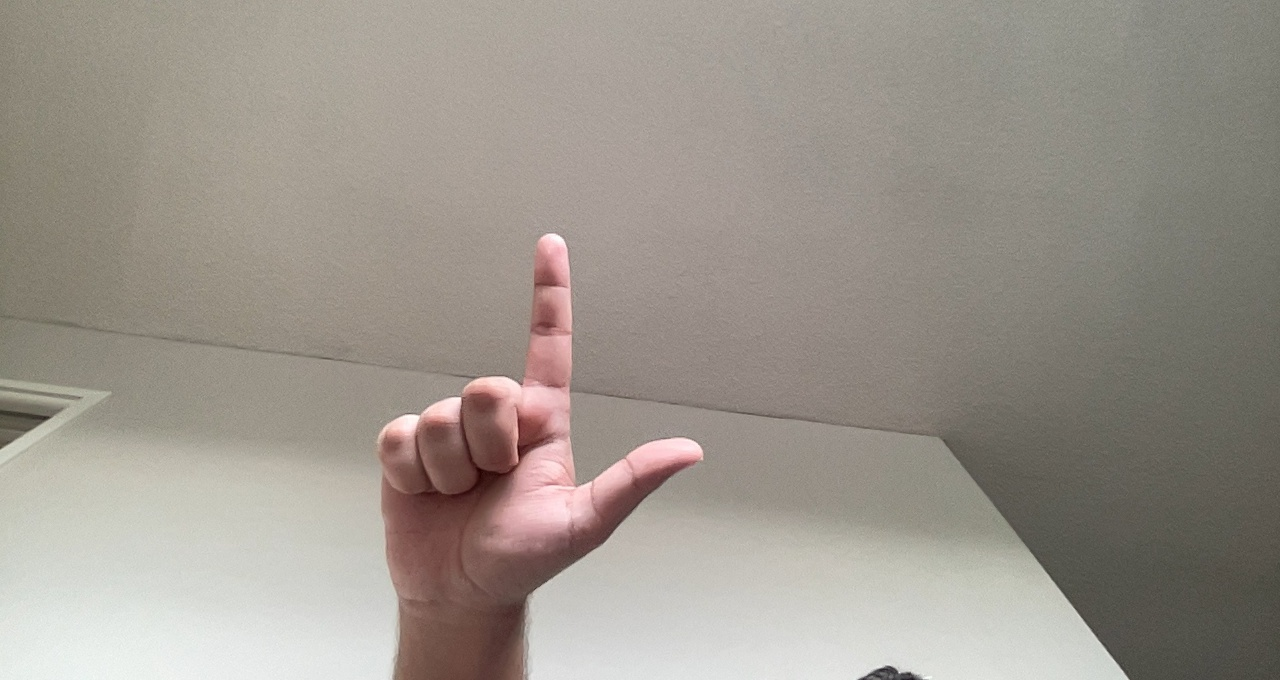L: (352, 221, 713, 645)
